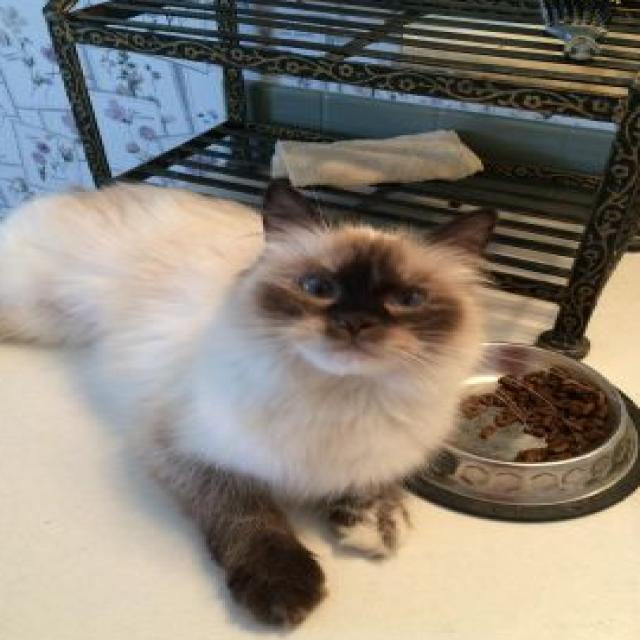Birman: (0, 179, 503, 636)
